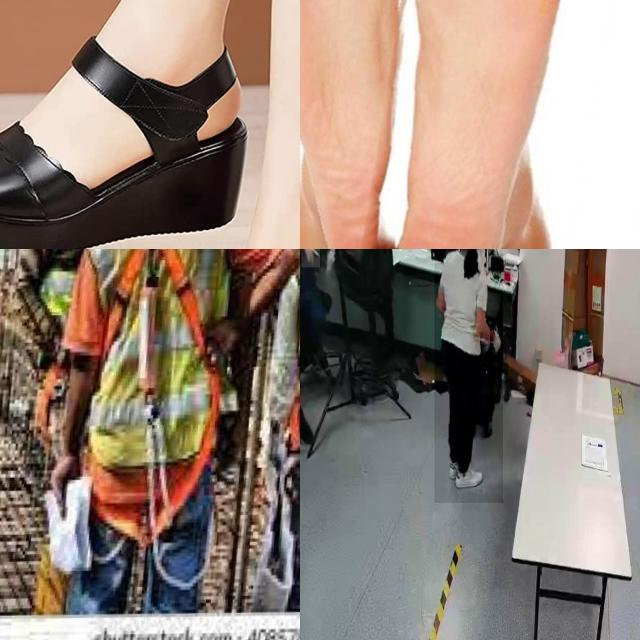Barefoots: (344, 0, 614, 249), (300, 0, 490, 249)
Harness: (93, 249, 221, 544)
Sandals: (0, 34, 247, 249)
hand_glove: (490, 326, 504, 361)
hand_noglove: (301, 249, 320, 268)
person: (434, 249, 503, 503)
shoes: (452, 459, 484, 494)
